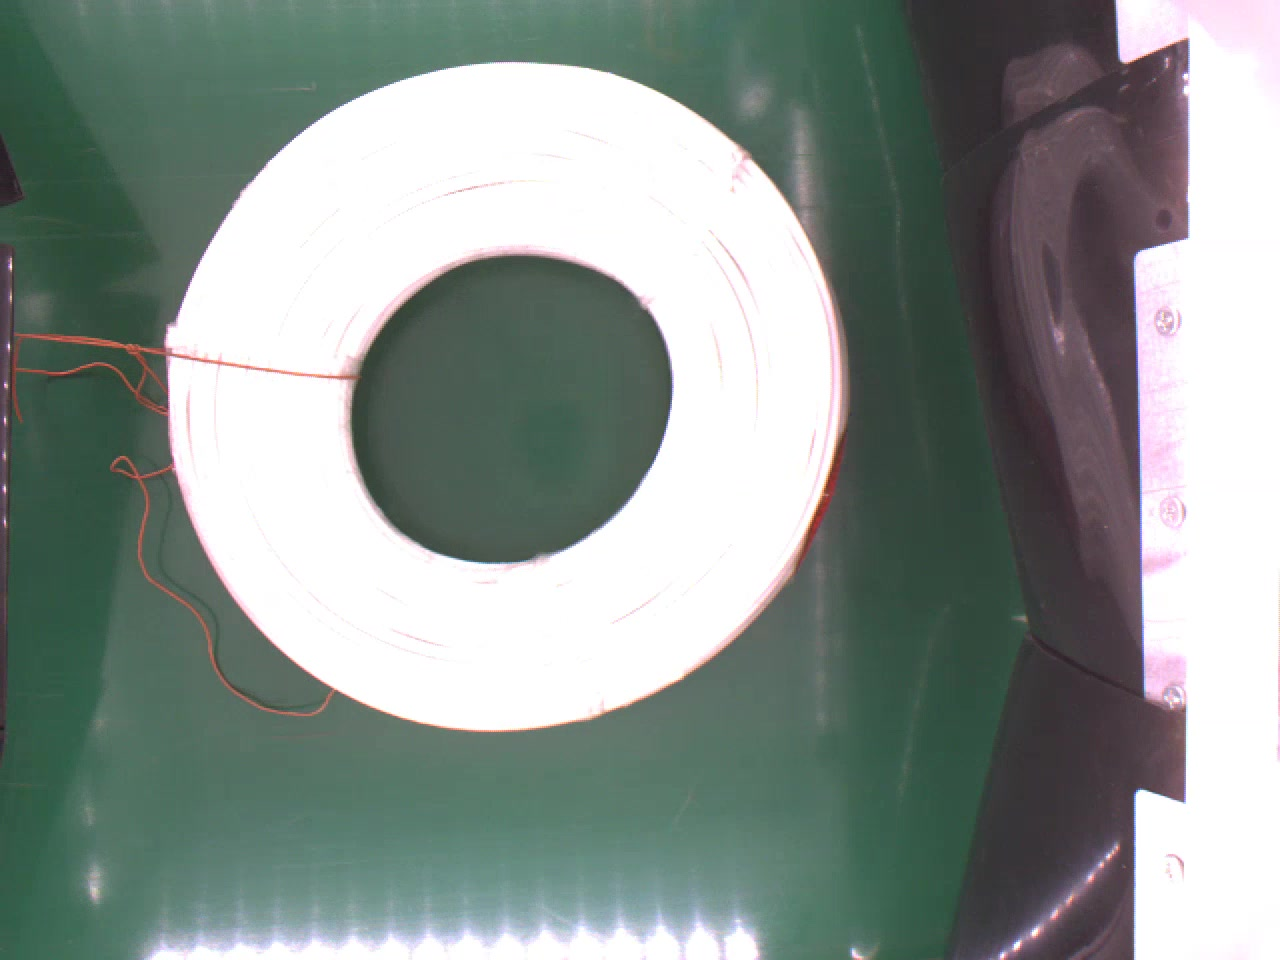white: (153, 56, 863, 728)
